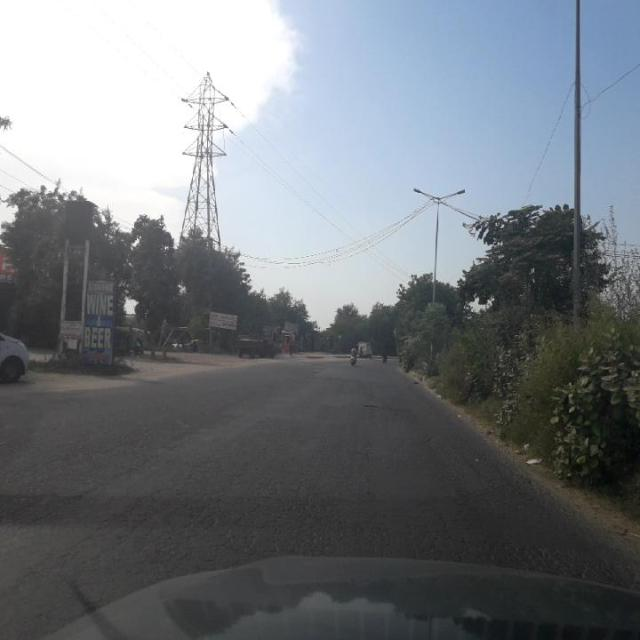D20: (86, 427, 596, 577)
